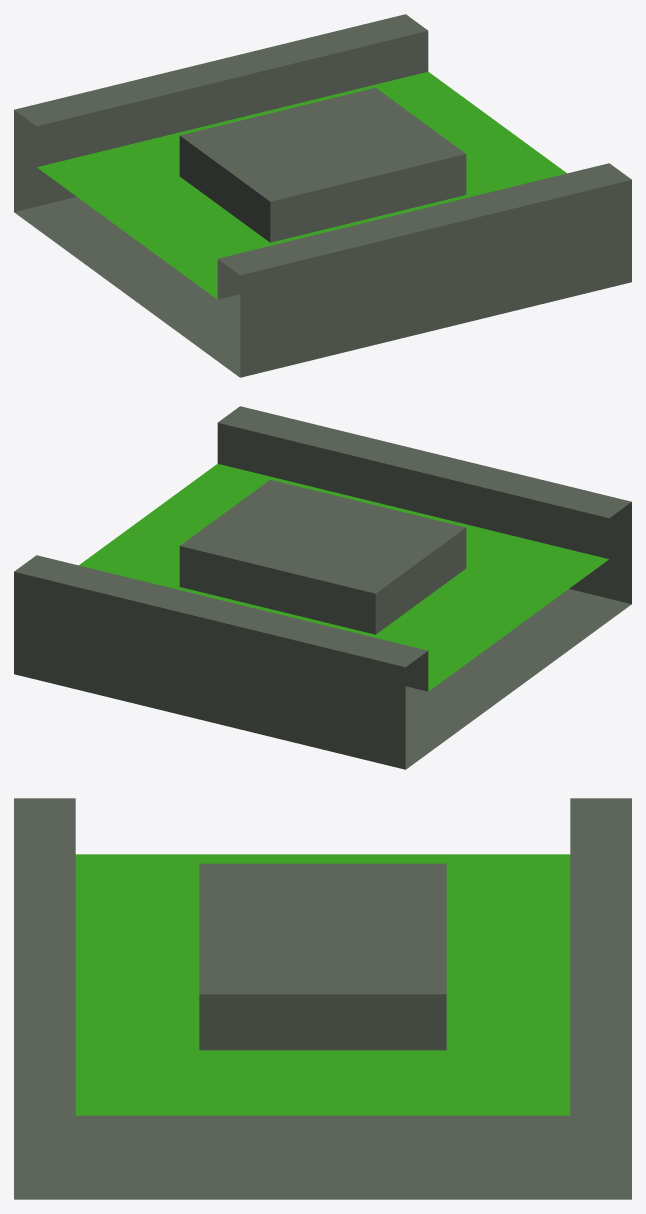
File: StraightSquare.fbx
The picture shows the model from 3 angles, top to bottom: view 1: azimuth 30°, elevation 25°; view 2: azimuth 150°, elevation 25°; view 3: azimuth 270°, elevation 25°; orthographic projection. The views are drawn at different scales.
Visible parts, largest first — view 1: StraightSquare; view 2: StraightSquare; view 3: StraightSquare.
Part boxes in pixels (box(x1,y1,x2,y2)): StraightSquare: box(14, 14, 631, 377); StraightSquare: box(14, 406, 631, 769); StraightSquare: box(14, 798, 631, 1199).
Size of the model in its own units: 200 by 50 by 200.
